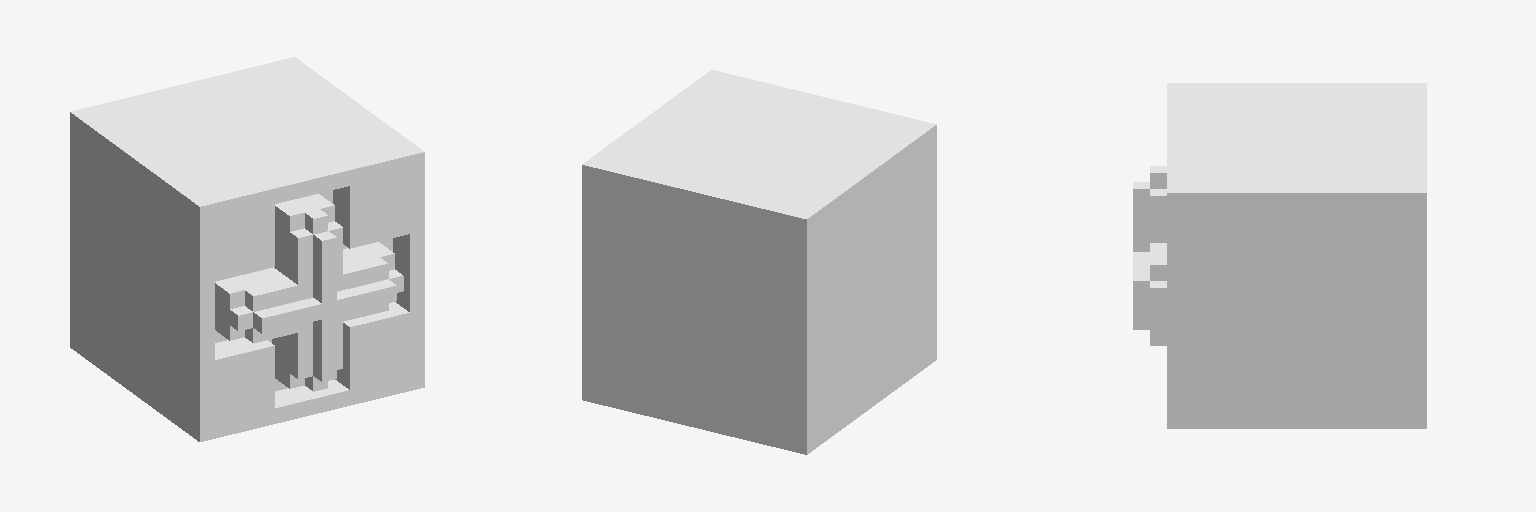
Rendered from plus_hp_cube.obj.
The picture shows the model from 3 angles: view 1: azimuth 30°, elevation 25°; view 2: azimuth 150°, elevation 25°; view 3: azimuth 270°, elevation 25°; orthographic projection.
Visible parts, largest first — view 1: object 1; view 2: object 1; view 3: object 1.
Boxes of the visible parts, x1,y1,x2,y2 form: object 1: [70, 57, 424, 441]; object 1: [582, 70, 936, 454]; object 1: [1133, 83, 1426, 428].
Size of the model in its own units: 1.5 by 1.5 by 1.7.